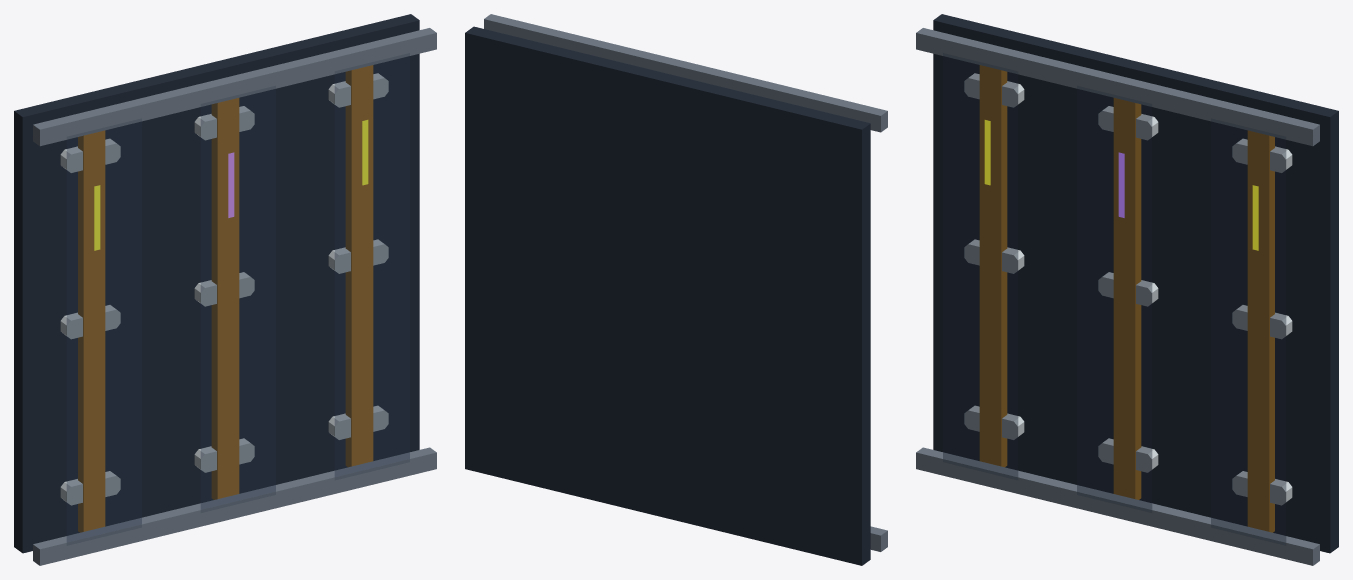
File: fus_wall_power_busbar.glb
The picture shows the model from 3 angles, left to right: view 1: azimuth 30°, elevation 25°; view 2: azimuth 150°, elevation 25°; view 3: azimuth 330°, elevation 25°; orthographic projection.
Visible parts, largest first — view 1: insulated_backplate, polycarbonate_guard, copper_bus, guard_rail, ceramic_insulator, load_indicator; view 2: insulated_backplate, guard_rail; view 3: insulated_backplate, polycarbonate_guard, copper_bus, guard_rail, ceramic_insulator, load_indicator.
Part boxes in pixels (x1,y1,x2,y2): insulated_backplate: [14, 14, 419, 553]; polycarbonate_guard: [67, 53, 409, 545]; copper_bus: [78, 65, 373, 532]; guard_rail: [33, 28, 436, 565]; ceramic_insulator: [60, 73, 388, 505]; load_indicator: [94, 120, 368, 250]; insulated_backplate: [465, 26, 870, 565]; guard_rail: [484, 14, 887, 551]; insulated_backplate: [933, 14, 1338, 553]; polycarbonate_guard: [943, 53, 1285, 545]; copper_bus: [979, 65, 1274, 532]; guard_rail: [916, 28, 1319, 565]; ceramic_insulator: [964, 73, 1292, 505]; load_indicator: [984, 120, 1258, 250].
Size of the model in its own units: 4 by 4.2 by 0.45.
